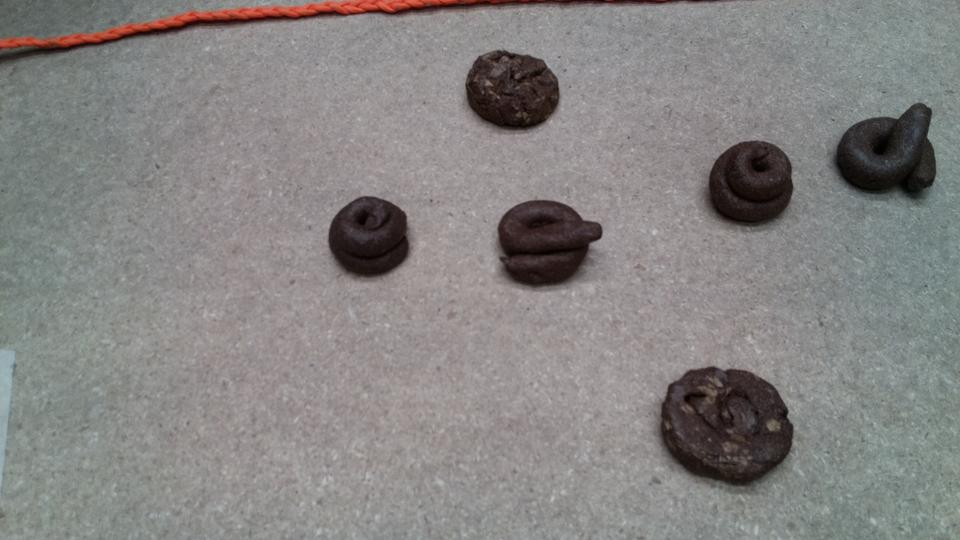poop: (659, 359, 799, 492), (833, 101, 943, 205), (494, 196, 605, 288), (702, 132, 802, 232), (463, 44, 560, 137), (330, 192, 414, 281)
rope: (2, 1, 420, 53)
